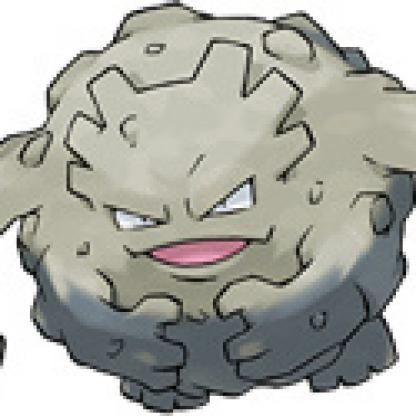Graveler: (1, 1, 414, 414)
